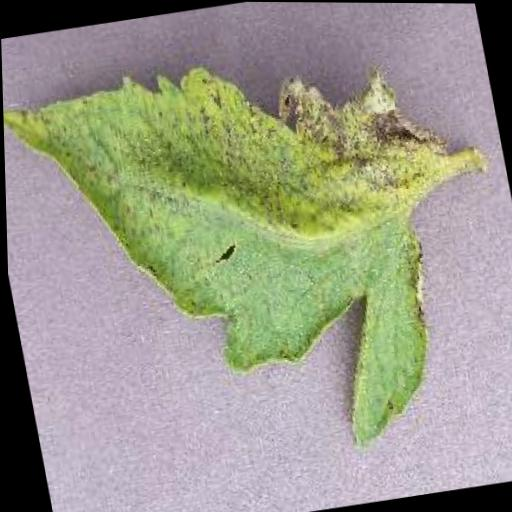Septoria: (1, 26, 498, 489)
